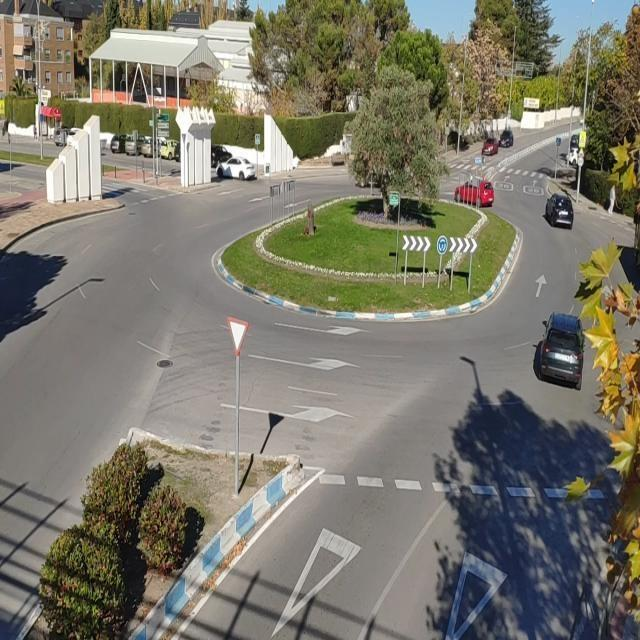Car: (538, 313, 586, 387), (452, 178, 496, 206), (544, 193, 576, 227), (216, 157, 256, 179), (482, 137, 498, 156), (498, 130, 514, 147)
